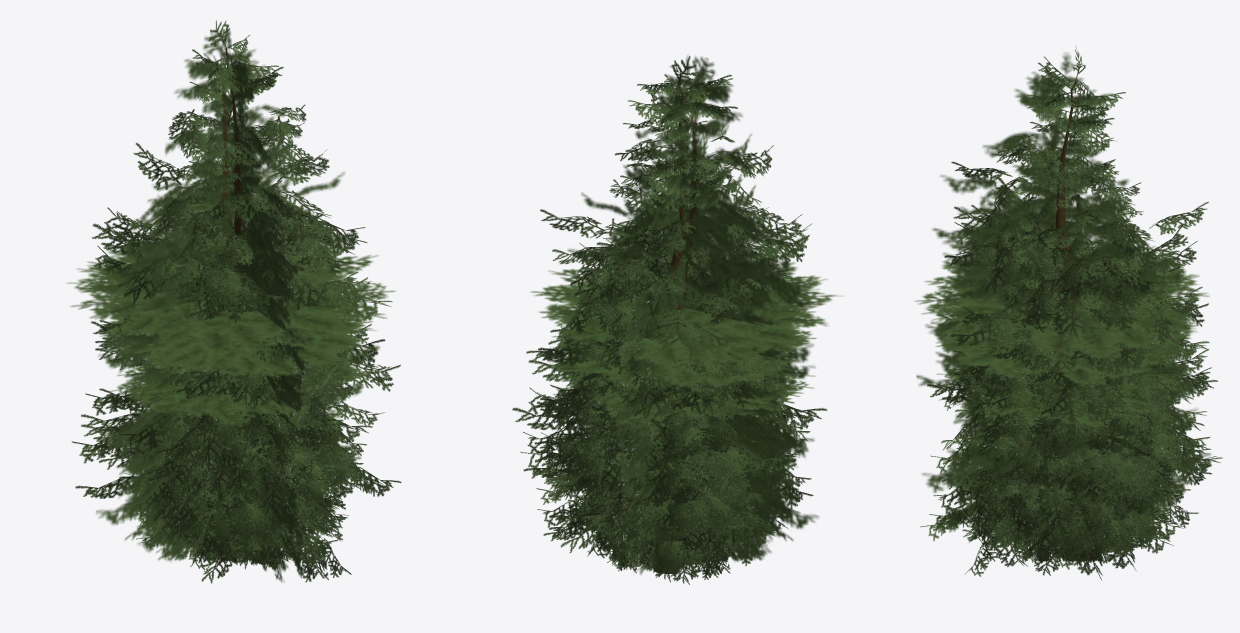
The model's file is firs.glb.
The picture shows the model from 3 angles, left to right: view 1: azimuth 30°, elevation 25°; view 2: azimuth 150°, elevation 25°; view 3: azimuth 270°, elevation 25°; orthographic projection. The views are drawn at different scales.
Parts seen in each view (by area): view 1: fir0_far, fir0_leaf, fir2_leaf, fir1_far, fir1_leaf, fir2_far, fir3_leaf, fir3_far; view 2: fir0_leaf, fir0_far, fir1_leaf, fir1_far, fir2_far, fir2_leaf, fir3_leaf; view 3: fir0_leaf, fir1_leaf, fir2_leaf, fir0_far, fir1_far, fir2_far, fir0_bark, fir3_leaf.
Part boxes in pixels (<box>): fir0_far: <box>67,27,395,564</box>; fir0_leaf: <box>71,20,400,562</box>; fir2_leaf: <box>132,188,401,583</box>; fir1_far: <box>96,90,375,572</box>; fir1_leaf: <box>91,90,372,569</box>; fir2_far: <box>108,185,380,582</box>; fir3_leaf: <box>141,368,317,564</box>; fir3_far: <box>155,430,315,565</box>; fir0_leaf: <box>512,56,827,577</box>; fir0_far: <box>530,55,840,568</box>; fir1_leaf: <box>536,121,797,582</box>; fir1_far: <box>552,114,816,574</box>; fir2_far: <box>549,209,815,571</box>; fir2_leaf: <box>545,205,813,574</box>; fir3_leaf: <box>605,385,761,584</box>; fir0_leaf: <box>927,45,1222,569</box>; fir1_leaf: <box>945,115,1217,565</box>; fir2_leaf: <box>920,204,1177,580</box>; fir0_far: <box>915,52,1210,516</box>; fir1_far: <box>929,124,1200,535</box>; fir2_far: <box>936,201,1192,549</box>; fir0_bark: <box>1055,78,1079,559</box>; fir3_leaf: <box>986,372,1156,566</box>.
Size of the model in its own units: 5.45 by 9.33 by 5.24.
Materials: 6 (6 with a texture image).
